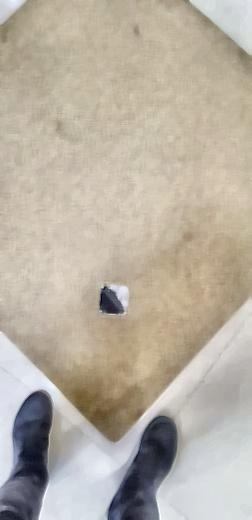corrosive: (99, 284, 131, 316)
